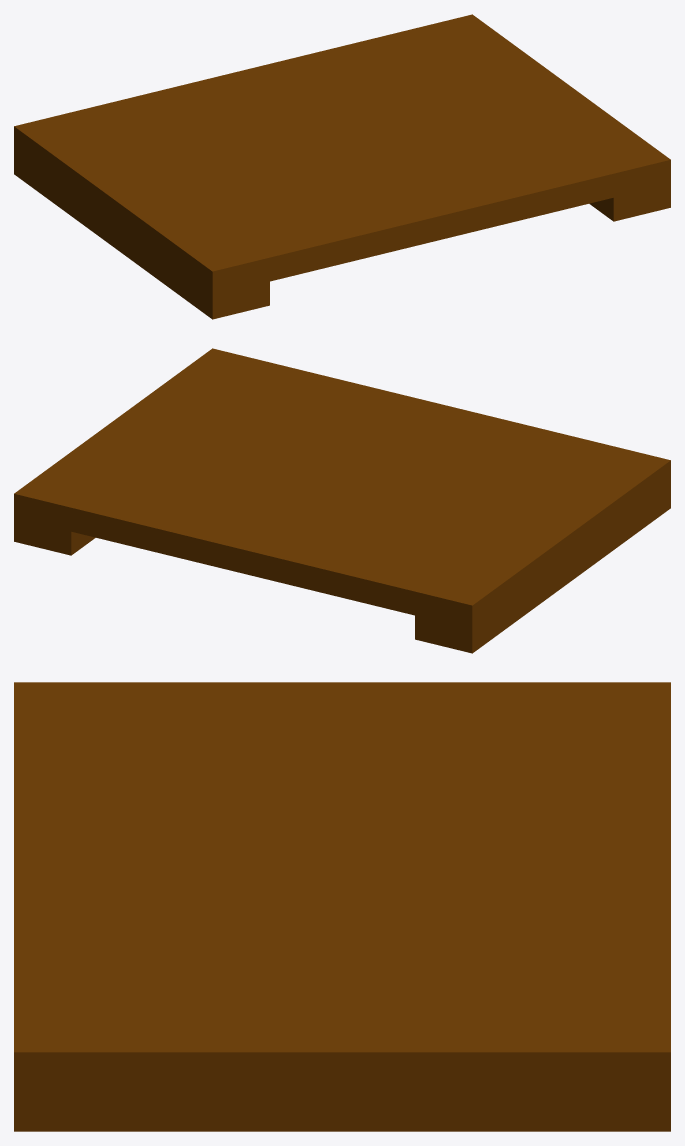
File: pallet.dae
3 views of the same model, one above another, from view 1: azimuth 30°, elevation 25°; view 2: azimuth 150°, elevation 25°; view 3: azimuth 270°, elevation 25° (orthographic). The views are drawn at different scales.
Visible parts, largest first — view 1: ID2; view 2: ID2; view 3: ID2.
Part boxes in pixels (box(x1,y1,x2,y2)): ID2: box(14, 14, 670, 319); ID2: box(14, 348, 670, 653); ID2: box(14, 682, 670, 1131).
Size of the model in its own units: 0.2 by 0.15 by 0.02.
